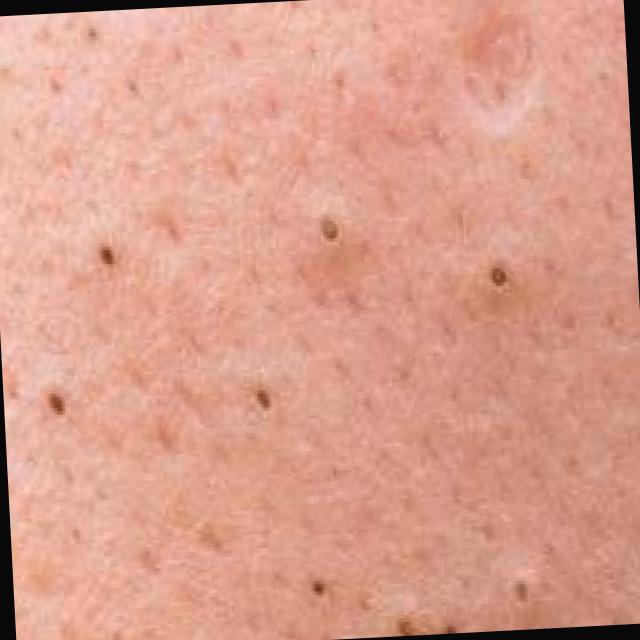blackhead: (324, 222, 338, 240), (516, 582, 528, 602), (102, 248, 112, 266), (492, 270, 504, 284), (402, 622, 413, 636), (50, 394, 59, 410), (56, 399, 64, 415), (448, 622, 458, 634), (314, 582, 323, 595), (258, 389, 266, 402), (262, 399, 270, 408), (90, 28, 96, 36)
